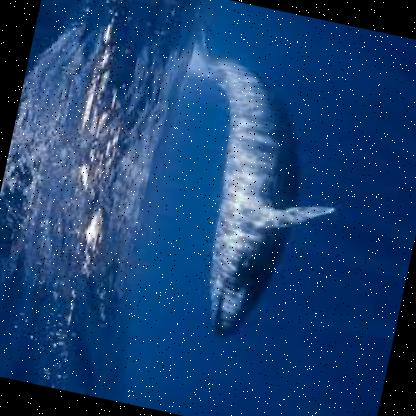blue_whale: (110, 26, 393, 372)
